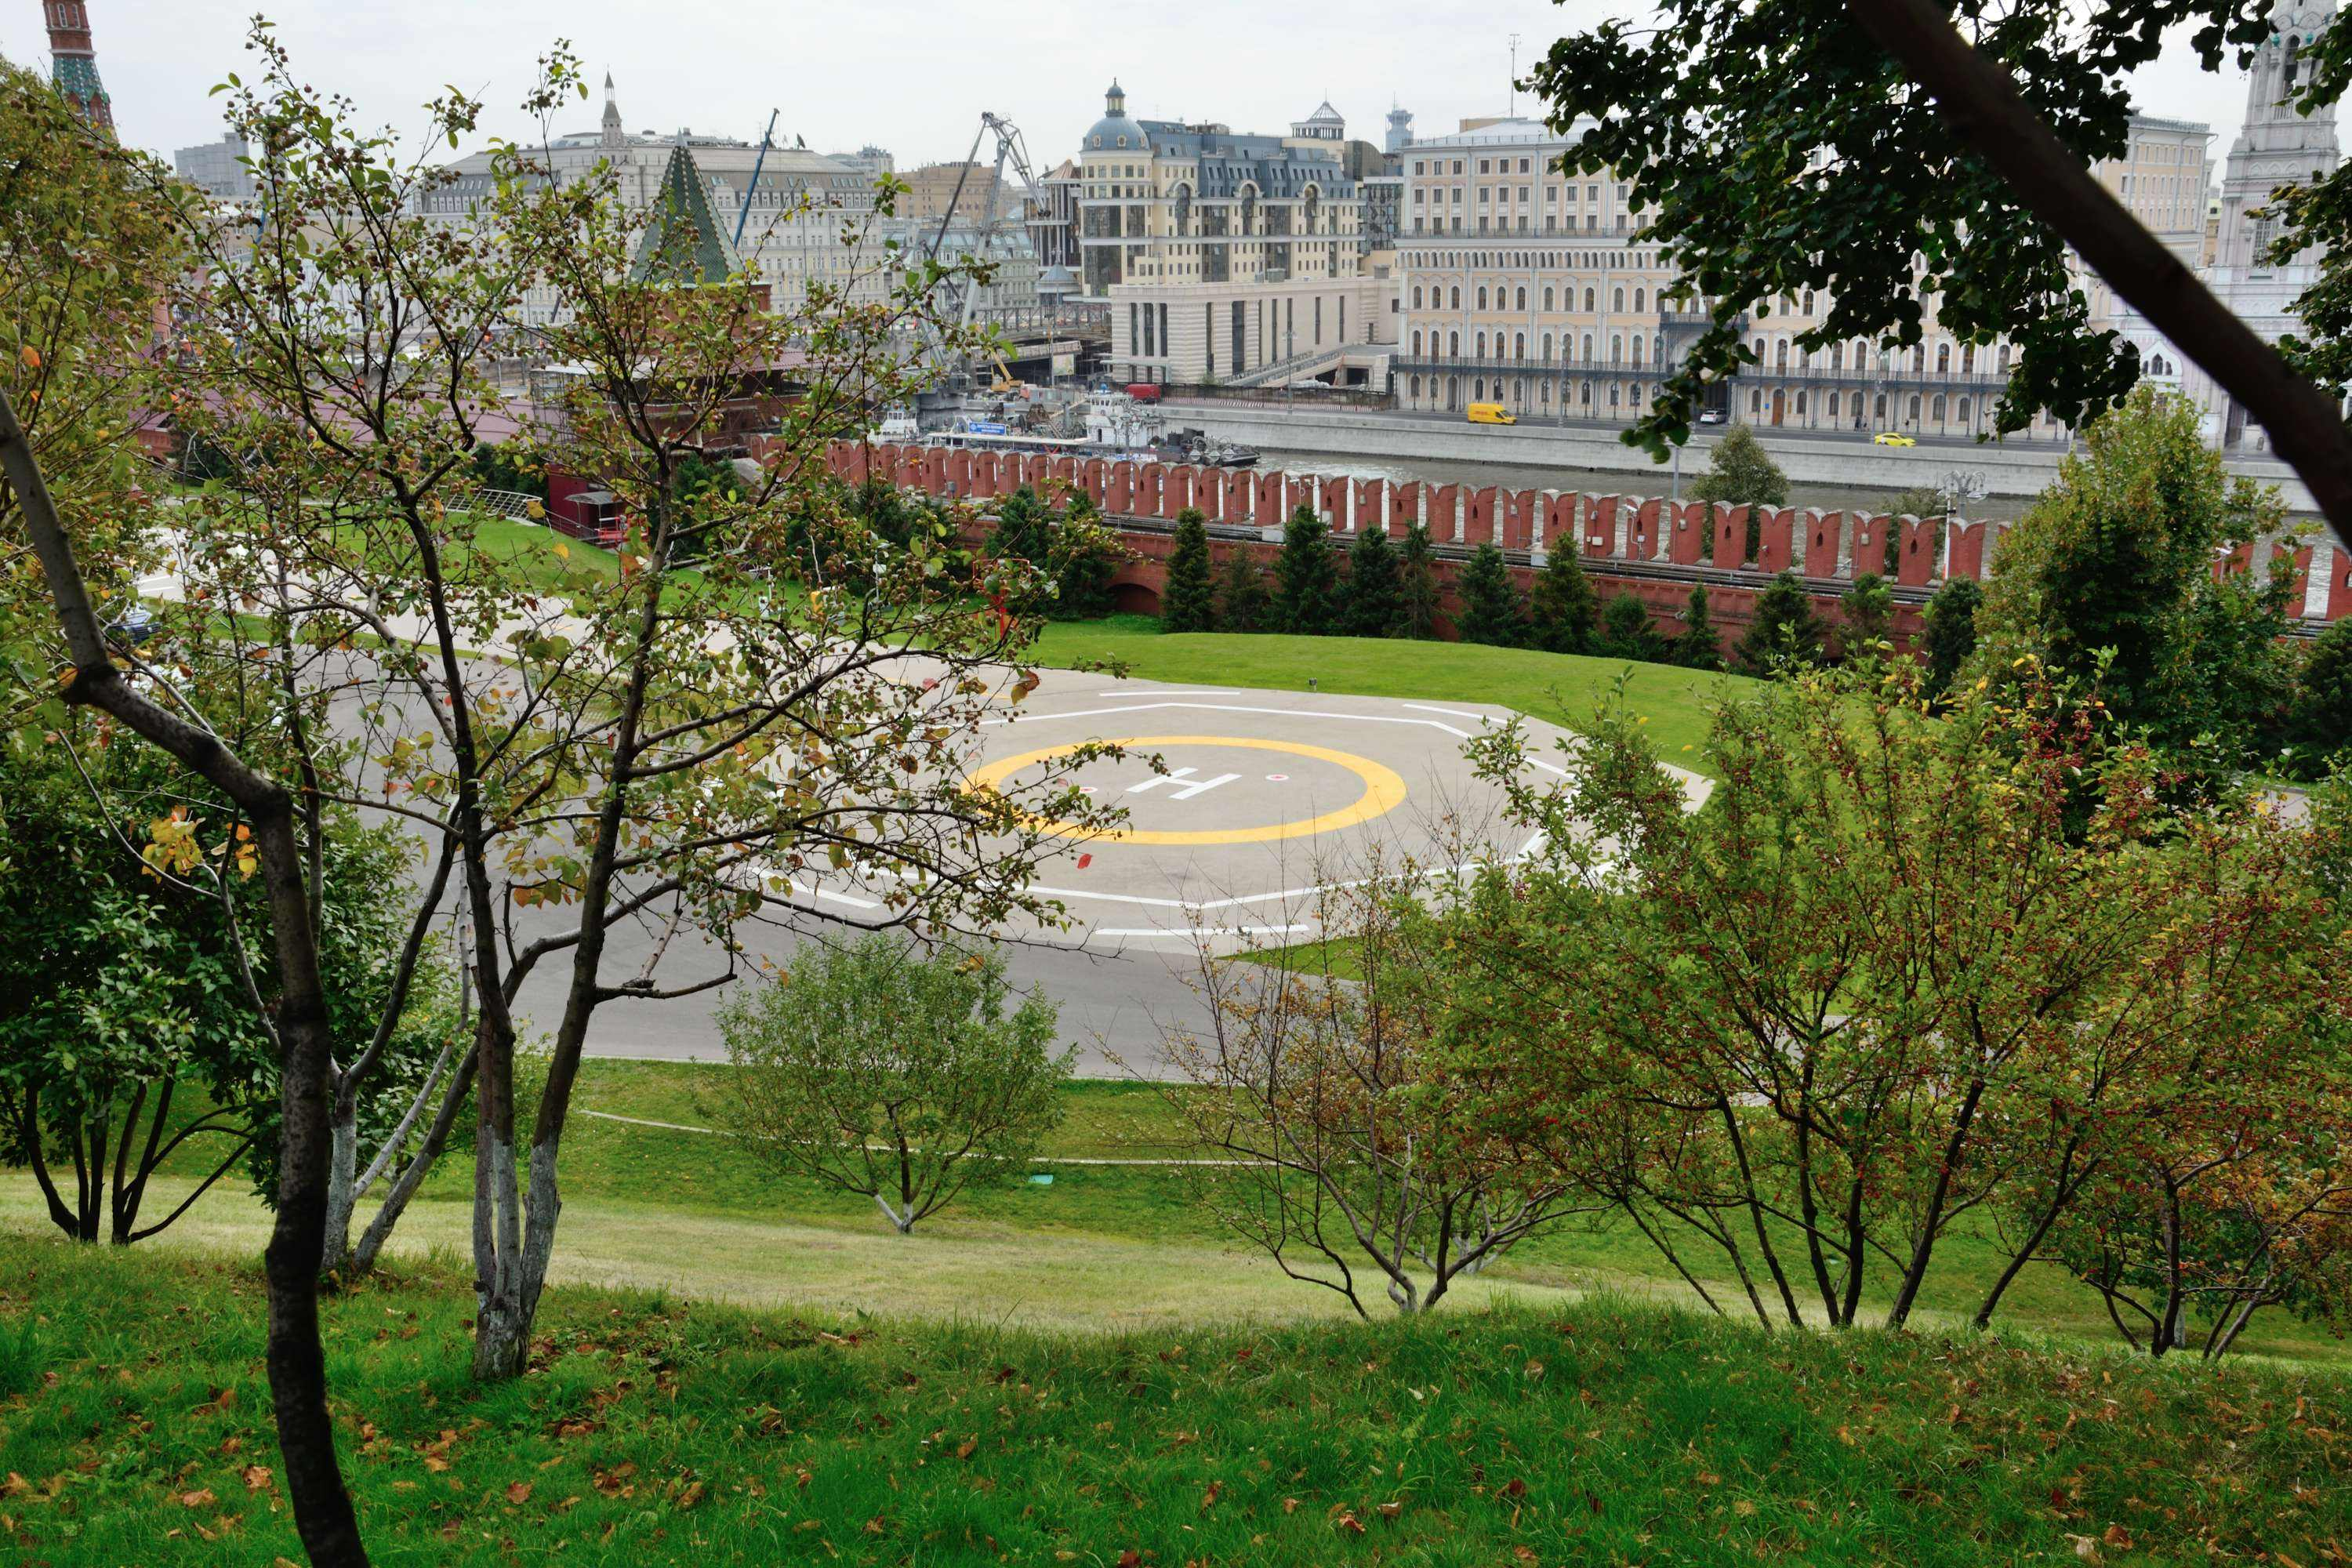H: (1123, 766, 1244, 800)
